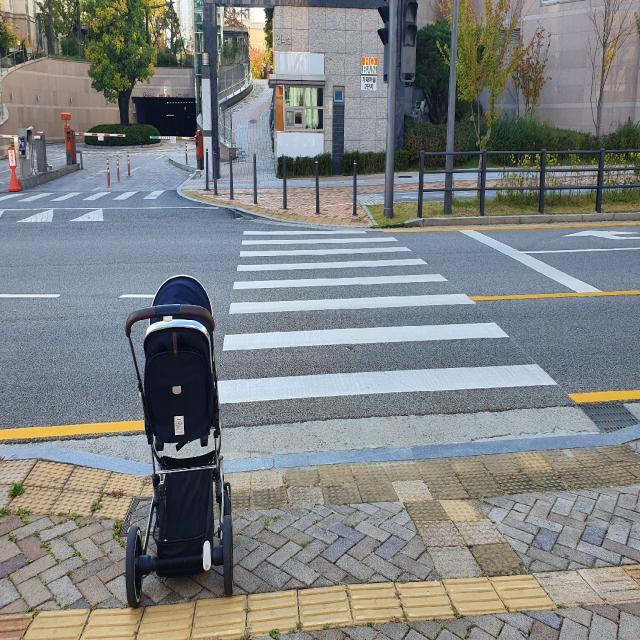횡단보도: (218, 224, 556, 406), (0, 181, 184, 218)
